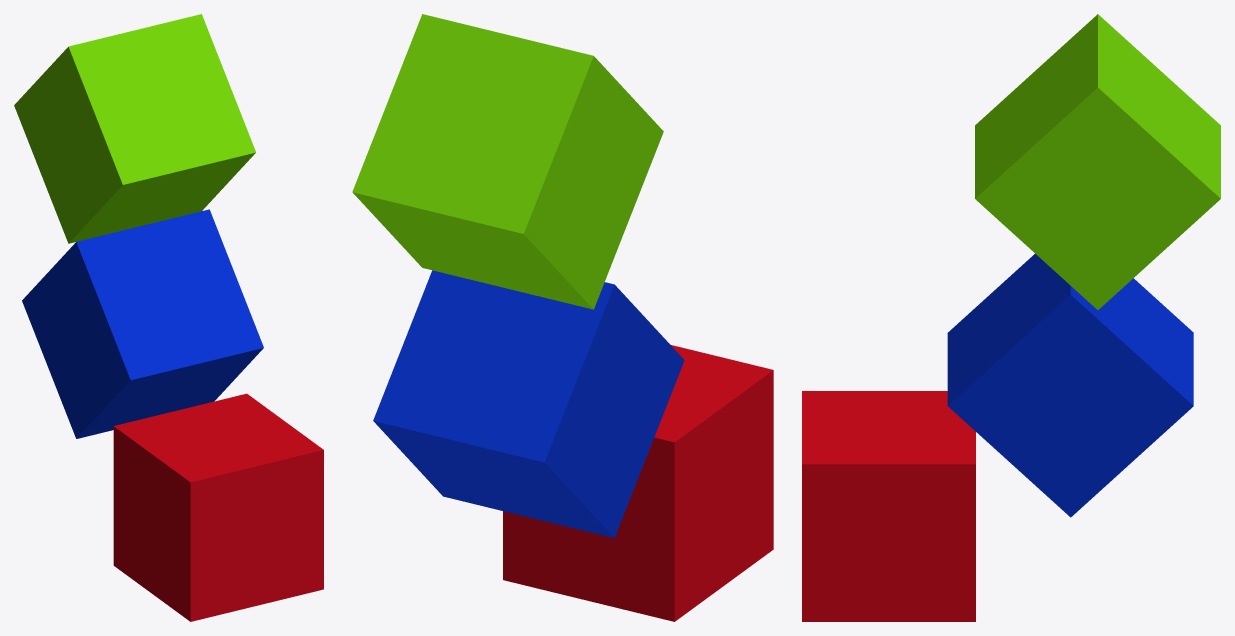
File: three_cubes.dae
3 renders of one model, left to right at view 1: azimuth 30°, elevation 25°; view 2: azimuth 150°, elevation 25°; view 3: azimuth 270°, elevation 25°, orthographic. The views are drawn at different scales.
Visible parts, largest first — view 1: BOTTOM_CUBE, THIRD_CUBE, SECOND_CUBE; view 2: THIRD_CUBE, SECOND_CUBE, BOTTOM_CUBE; view 3: THIRD_CUBE, SECOND_CUBE, BOTTOM_CUBE.
Part boxes in pixels (x1,y1,x2,y2): BOTTOM_CUBE: [113, 393, 323, 621]; THIRD_CUBE: [14, 14, 255, 243]; SECOND_CUBE: [22, 209, 263, 438]; THIRD_CUBE: [352, 14, 663, 309]; SECOND_CUBE: [373, 270, 684, 538]; BOTTOM_CUBE: [503, 345, 773, 621]; THIRD_CUBE: [975, 14, 1220, 309]; SECOND_CUBE: [947, 253, 1193, 517]; BOTTOM_CUBE: [802, 391, 975, 621].
Size of the model in its own units: 2.13 by 4.82 by 6.84.
